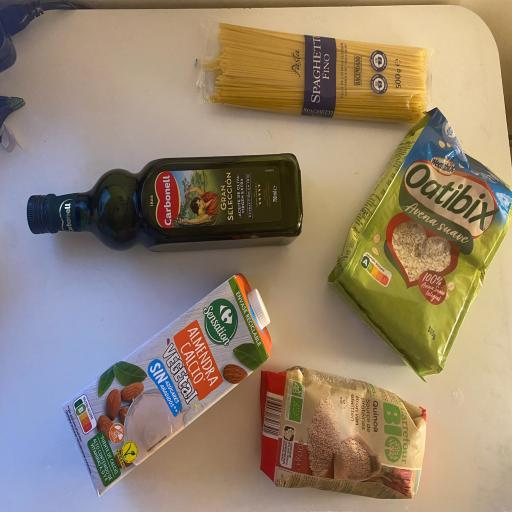almond_milk: (59, 272, 274, 498)
oats: (332, 108, 512, 379)
olive_oil: (22, 150, 306, 256)
quinoa: (259, 364, 430, 500)
spaghetti: (199, 18, 431, 127)
